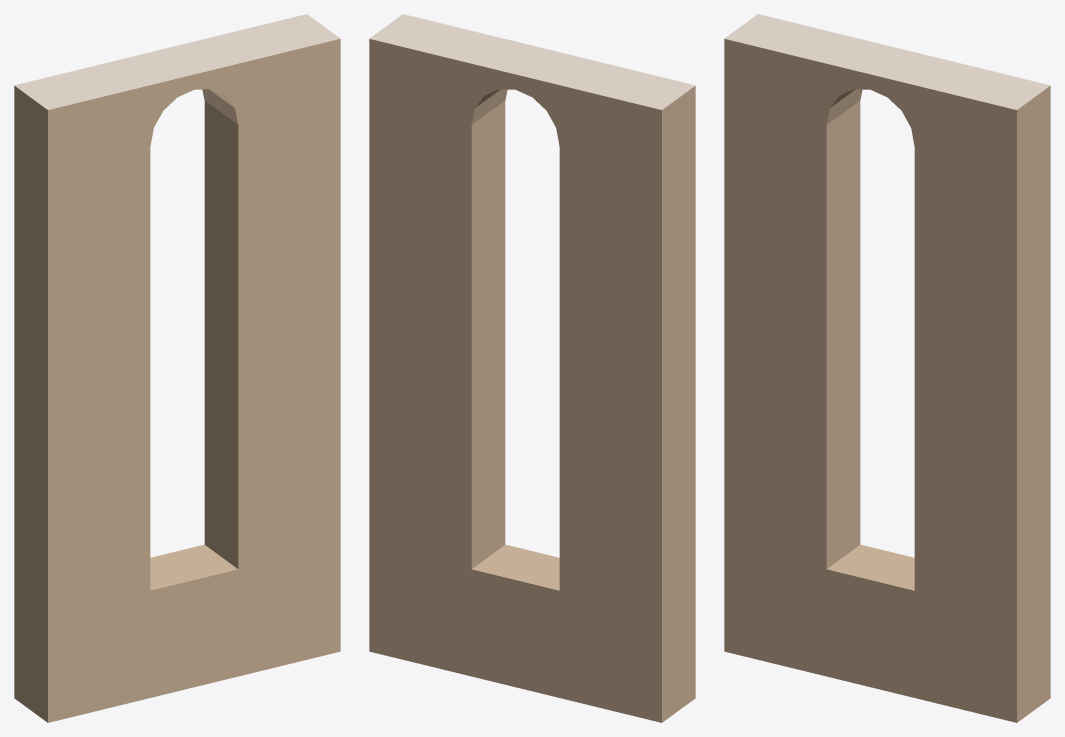
File: Wall_Straight_Window_Tall.fbx
3 renders of one model, left to right at view 1: azimuth 30°, elevation 25°; view 2: azimuth 150°, elevation 25°; view 3: azimuth 330°, elevation 25°, orthographic.
Parts seen in each view (by area): view 1: Sandstone_Trim.object1, Sandstone_Floor; view 2: Sandstone_Trim.object1, Sandstone_Floor; view 3: Sandstone_Trim.object1, Sandstone_Floor.
Boxes of the visible parts, x1,y1,x2,y2 form: Sandstone_Trim.object1: [14, 39, 340, 722]; Sandstone_Floor: [14, 14, 340, 109]; Sandstone_Trim.object1: [369, 39, 695, 722]; Sandstone_Floor: [369, 14, 695, 109]; Sandstone_Trim.object1: [724, 39, 1050, 722]; Sandstone_Floor: [724, 14, 1050, 109].
Size of the model in its own units: 1 by 2 by 0.2.
